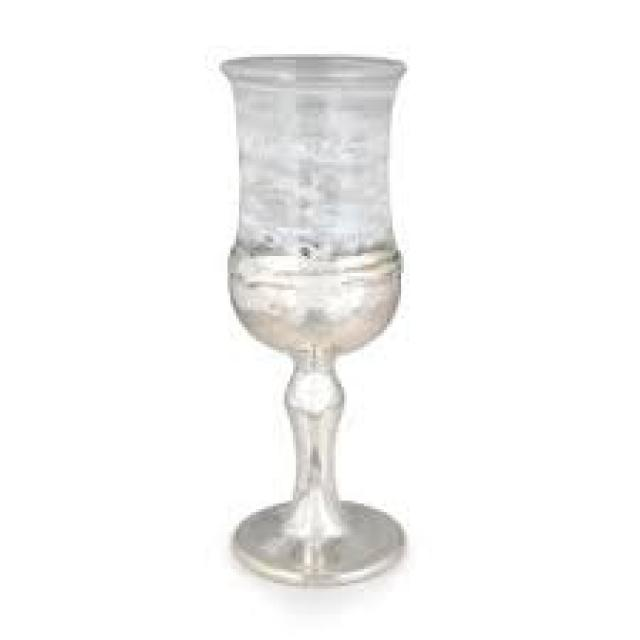glass: (216, 54, 404, 586)
